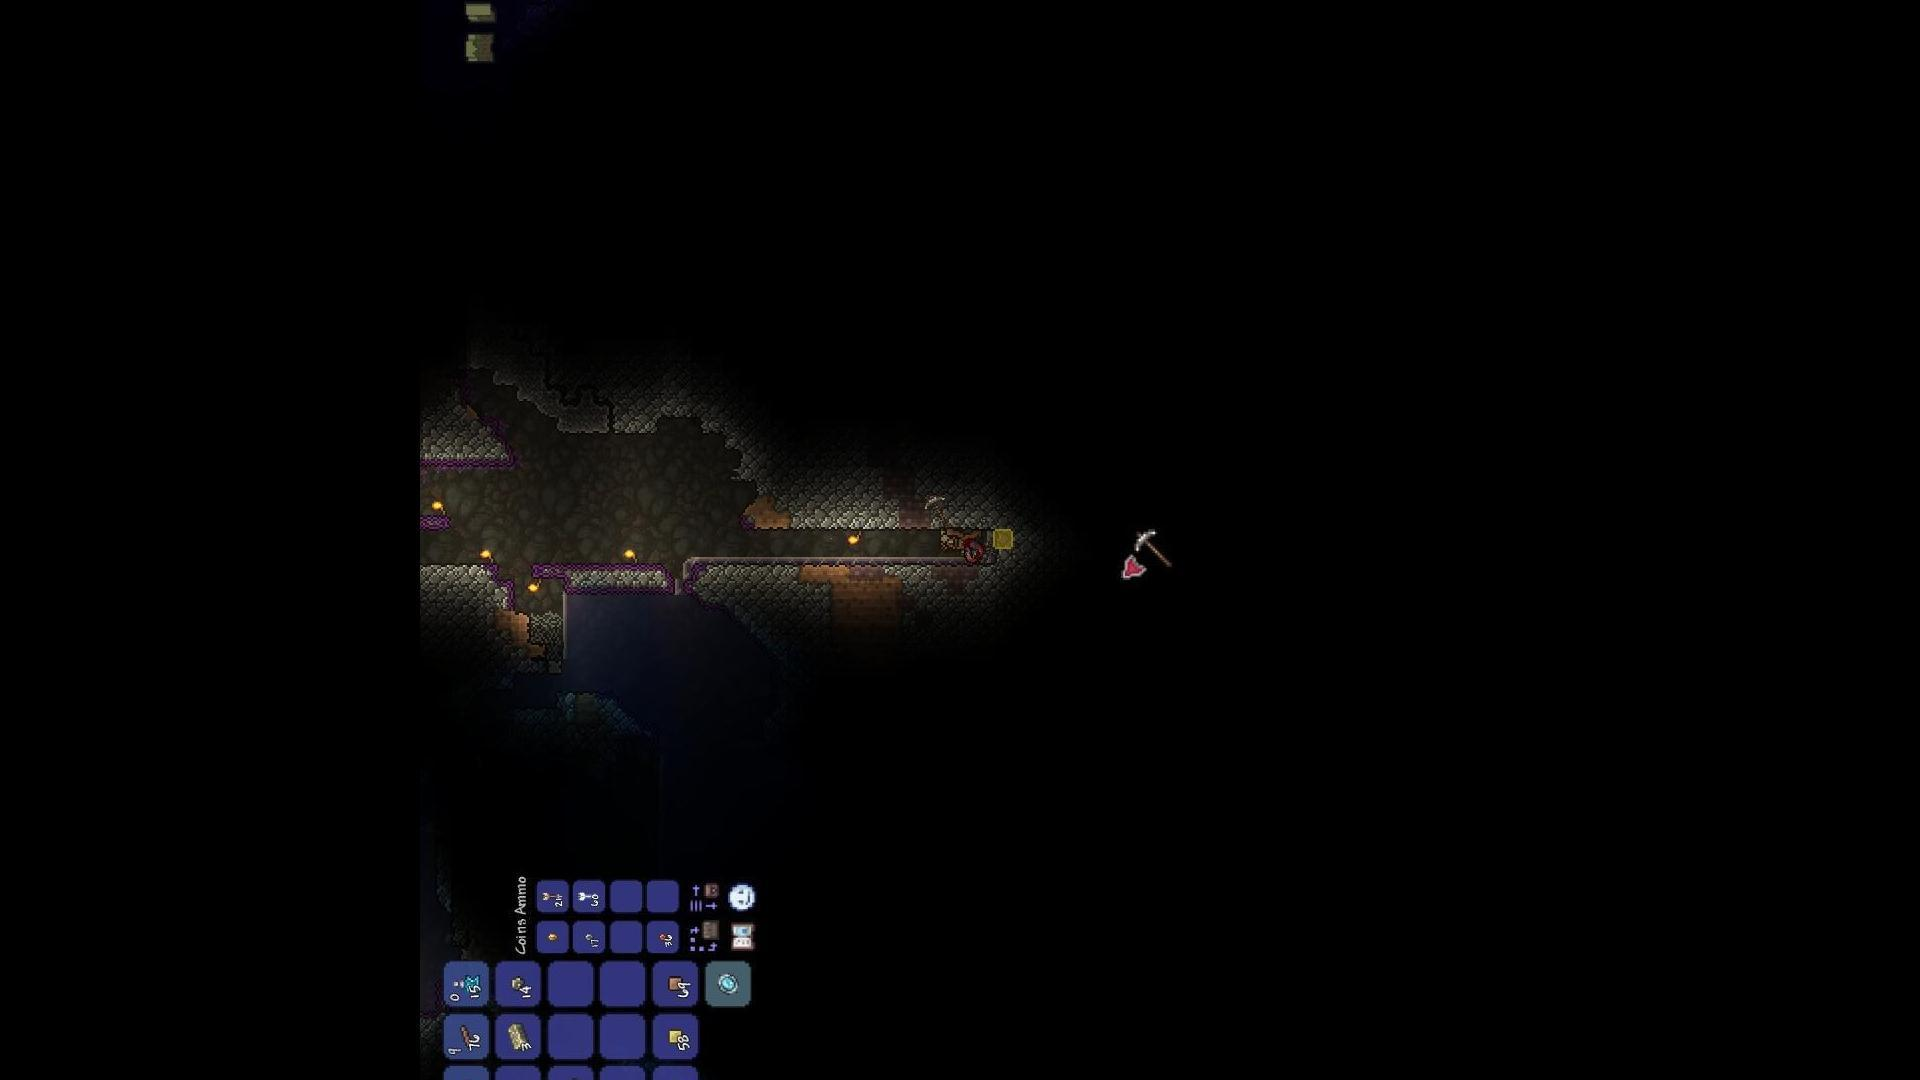arrow: (574, 887, 600, 902), (539, 886, 564, 901)
bar: (506, 1019, 529, 1051)
cobwebT: (545, 609, 564, 630), (530, 613, 547, 630), (545, 625, 562, 642), (530, 628, 546, 644)
lens: (559, 1073, 585, 1080)
liquid: (555, 585, 575, 608)
mirror: (713, 971, 741, 996)
ore: (506, 971, 527, 992)
torchT: (618, 549, 644, 566), (845, 525, 865, 546), (525, 574, 546, 593), (477, 547, 501, 564)
